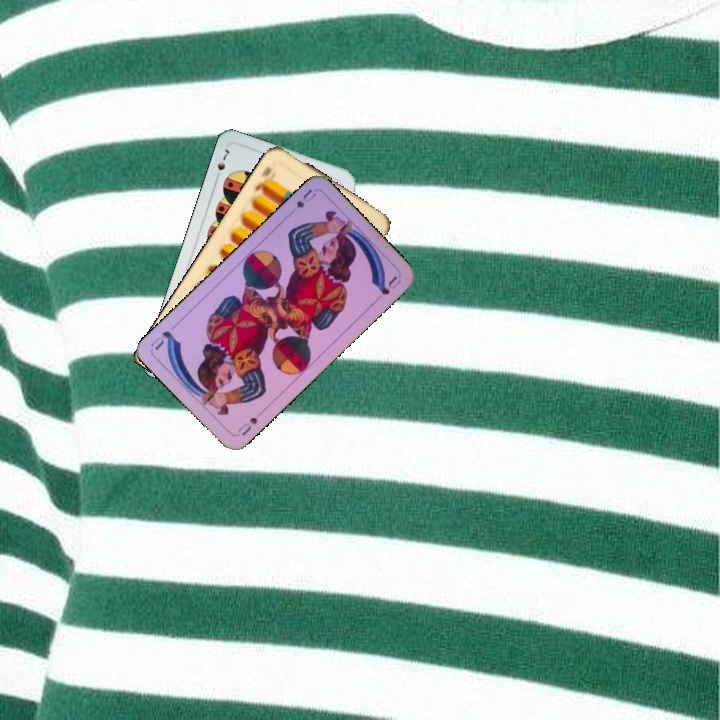E10: (250, 162, 274, 197)
S7: (211, 145, 232, 183)
SU: (234, 406, 266, 438), (292, 185, 318, 211)
